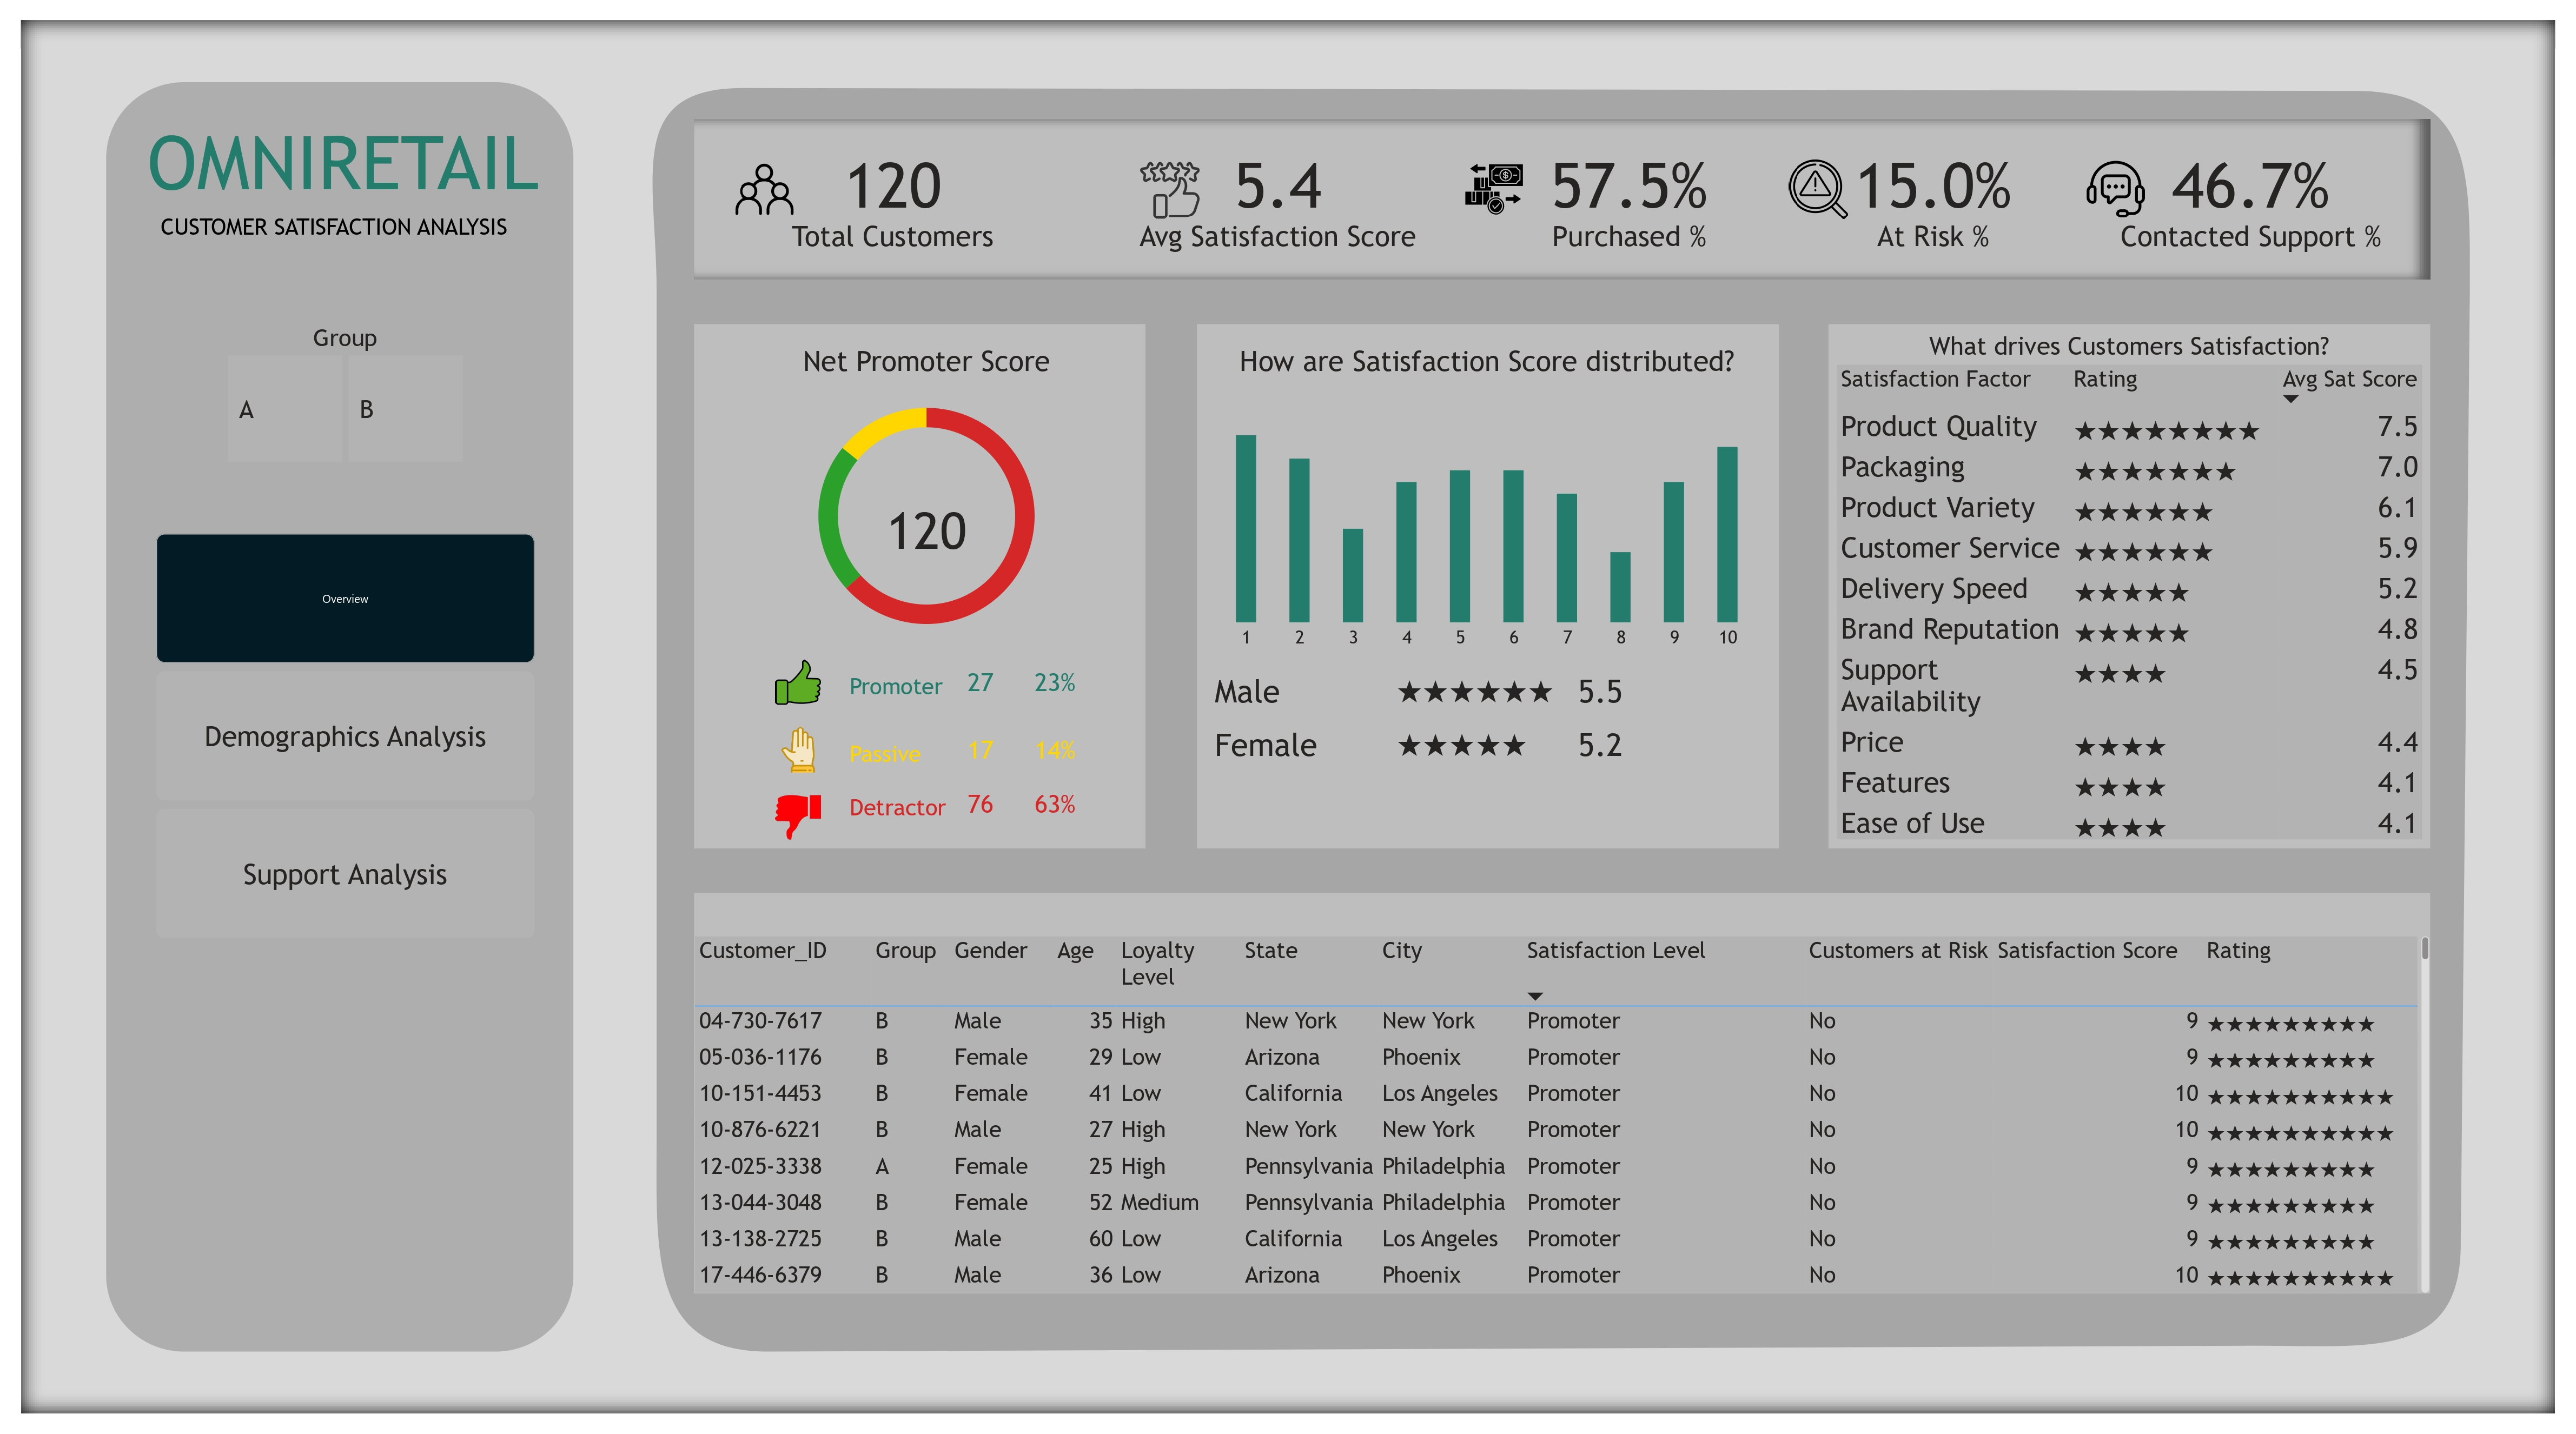

This screenshot's page, from the dashboard's own definition file:
{"tool":"powerbi","page":{"name":"Overview","canvas":[3000,1650],"ordinal":0},"visuals":[{"type":"card","title":"Total Customers","fields":{"Values":["DAX.Total Customers"]},"box":[816,128,432,160],"z":0},{"type":"image","box":[832,160,96,80],"z":1000},{"type":"card","fields":{"Values":["DAX.Avg Satisfaction Score"]},"box":[1264,128,448,160],"z":2000},{"type":"image","box":[1312,160,96,80],"z":3000},{"type":"card","fields":{"Values":["DAX.Repeat Customer %"]},"box":[1744,128,320,160],"z":4000},{"type":"card","fields":{"Values":["DAX.% of Customers at Risk"]},"box":[2112,128,304,160],"z":5000},{"type":"card","fields":{"Values":["DAX.Support Customer %"]},"box":[2432,128,416,160],"z":6000},{"type":"image","box":[2080,160,96,80],"z":7000},{"type":"image","box":[2432,160,96,80],"z":8000},{"type":"image","box":[1696,160,96,80],"z":9000},{"type":"donutChart","title":"Net Promoter Score","fields":{"Y":["DAX.Total Customers"],"Category":["Customer Fact.Satisfaction_Category"]},"box":[832,384,480,368],"z":10000},{"type":"image","box":[880,752,80,64],"z":11000},{"type":"image","box":[880,832,80,64],"z":12000},{"type":"image","box":[880,912,80,64],"z":13000},{"type":"tableEx","title":"What drives Customers Satisfaction?","fields":{"Values":["Satisfaction Factor.Satisfaction_Factor","DAX.Score rating","DAX.Avg Satisfaction Score"]},"box":[2144,368,704,608],"z":14000},{"type":"clusteredColumnChart","title":"How are  Satisfaction Score distributed?","fields":{"Category":["Customer Fact.Satisfaction_Score"],"Y":["DAX.Total Customers"]},"box":[1408,384,656,368],"z":15000},{"type":"multiRowCard","fields":{"Values":["Gender.Gender","DAX.Score rating","DAX.Avg Satisfaction Score"]},"box":[1408,768,656,192],"z":16000},{"type":"tableEx","fields":{"Values":["Customer Fact.Customer_ID","Group.Group","Customer Fact.Gender","Sum(Customer Fact.Age)","Customer Fact.Loyalty_Level","Customer Fact.State","Customer Fact.City","Customer Fact.Satisfaction_Category","Customer Fact.Customers at Risk","Sum(Customer Fact.Satisfaction_Score)","Customer Fact.Score star"]},"box":[792,1080,2064,432],"z":17000},{"type":"card","fields":{"Values":["DAX.Total Customers"]},"box":[992,528,160,144],"z":18000},{"type":"card","fields":{"Values":["DAX.Detractor"]},"box":[1104,896,64,64],"z":19000},{"type":"card","fields":{"Values":["DAX.Promoter"]},"box":[1104,752,64,64],"z":20000},{"type":"card","fields":{"Values":["DAX.Passive"]},"box":[1104,832,64,64],"z":21000},{"type":"textbox","box":[976,768,144,48],"z":22000},{"type":"textbox","box":[976,848,112,48],"z":23000},{"type":"textbox","box":[976,912,128,48],"z":24000},{"type":"card","fields":{"Values":["DAX.Promoter %"]},"box":[1168,752,112,64],"z":25000},{"type":"card","fields":{"Values":["DAX.Detractor %"]},"box":[1168,896,112,64],"z":26000},{"type":"card","fields":{"Values":["DAX.Passive %"]},"box":[1168,832,112,64],"z":27000},{"type":"textbox","box":[160,224,480,64],"z":28000},{"type":"textbox","box":[144,112,496,128],"z":29000},{"type":"pageNavigator","box":[160,608,448,480],"z":30000},{"type":"advancedSlicerVisual","fields":{"Values":["Group.Group"]},"box":[240,360,288,168],"z":31000}]}

Visuals, with their boxes in screenshot pixels (x1, y1, x2, y2):
"Total Customers" card: l=710, t=128, r=1075, b=263
image: l=724, t=155, r=805, b=223
card - DAX.Avg Satisfaction Score: l=1089, t=128, r=1467, b=263
image: l=1129, t=155, r=1210, b=223
card - DAX.Repeat Customer %: l=1494, t=128, r=1765, b=263
card - DAX.% of Customers at Risk: l=1805, t=128, r=2062, b=263
card - DAX.Support Customer %: l=2076, t=128, r=2427, b=263
image: l=1778, t=155, r=1859, b=223
image: l=2076, t=155, r=2157, b=223
image: l=1454, t=155, r=1535, b=223
"Net Promoter Score" donutChart: l=724, t=344, r=1129, b=655
image: l=764, t=655, r=832, b=709
image: l=764, t=723, r=832, b=777
image: l=764, t=791, r=832, b=845
"What drives Customers Satisfaction?" tableEx: l=1832, t=331, r=2427, b=845
"How are  Satisfaction Score distributed?" clusteredColumnChart: l=1210, t=344, r=1765, b=655
multiRowCard - Gender.Gender x DAX.Score rating: l=1210, t=669, r=1765, b=831
tableEx - Customer Fact.Customer_ID x Group.Group: l=690, t=932, r=2434, b=1297
card - DAX.Total Customers: l=859, t=466, r=994, b=588
card - DAX.Detractor: l=953, t=777, r=1008, b=831
card - DAX.Promoter: l=953, t=655, r=1008, b=709
card - DAX.Passive: l=953, t=723, r=1008, b=777
textbox: l=845, t=669, r=967, b=709
textbox: l=845, t=736, r=940, b=777
textbox: l=845, t=791, r=953, b=831
card - DAX.Promoter %: l=1008, t=655, r=1102, b=709
card - DAX.Detractor %: l=1008, t=777, r=1102, b=831
card - DAX.Passive %: l=1008, t=723, r=1102, b=777
textbox: l=156, t=209, r=561, b=263
textbox: l=142, t=115, r=561, b=223
pageNavigator: l=156, t=534, r=534, b=939
advancedSlicerVisual - Group.Group: l=223, t=324, r=467, b=466
